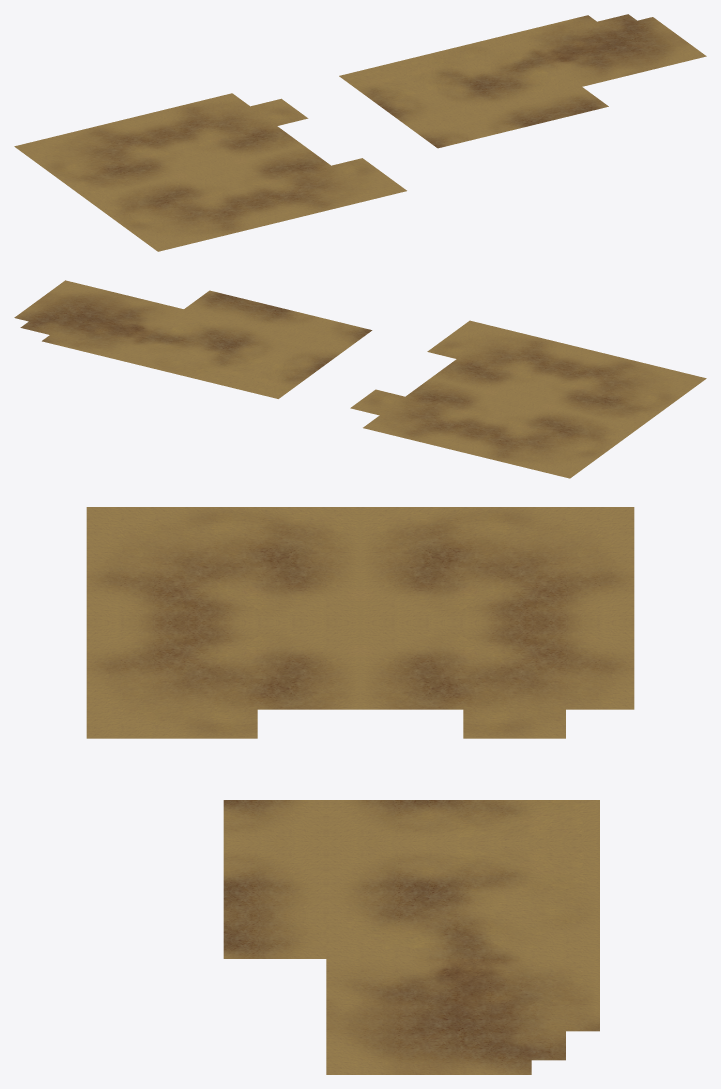
Rendered from Redrock_Canyon_2F_all.FBX.
3 renders of one model, top to bottom at view 1: azimuth 30°, elevation 25°; view 2: azimuth 150°, elevation 25°; view 3: azimuth 270°, elevation 25°, orthographic. The views are drawn at different scales.
Visible parts, largest first — view 1: Plane023, Plane017; view 2: Plane023, Plane017; view 3: Plane023, Plane017.
Part boxes in pixels (left/top/right/bottom): Plane023: left=14, top=93, right=406, bottom=251; Plane017: left=339, top=14, right=706, bottom=148; Plane023: left=350, top=320, right=706, bottom=478; Plane017: left=14, top=280, right=372, bottom=398; Plane023: left=86, top=507, right=634, bottom=738; Plane017: left=223, top=800, right=599, bottom=1074.
Size of the model in its own units: 78.48 by 0.000133 by 32.
